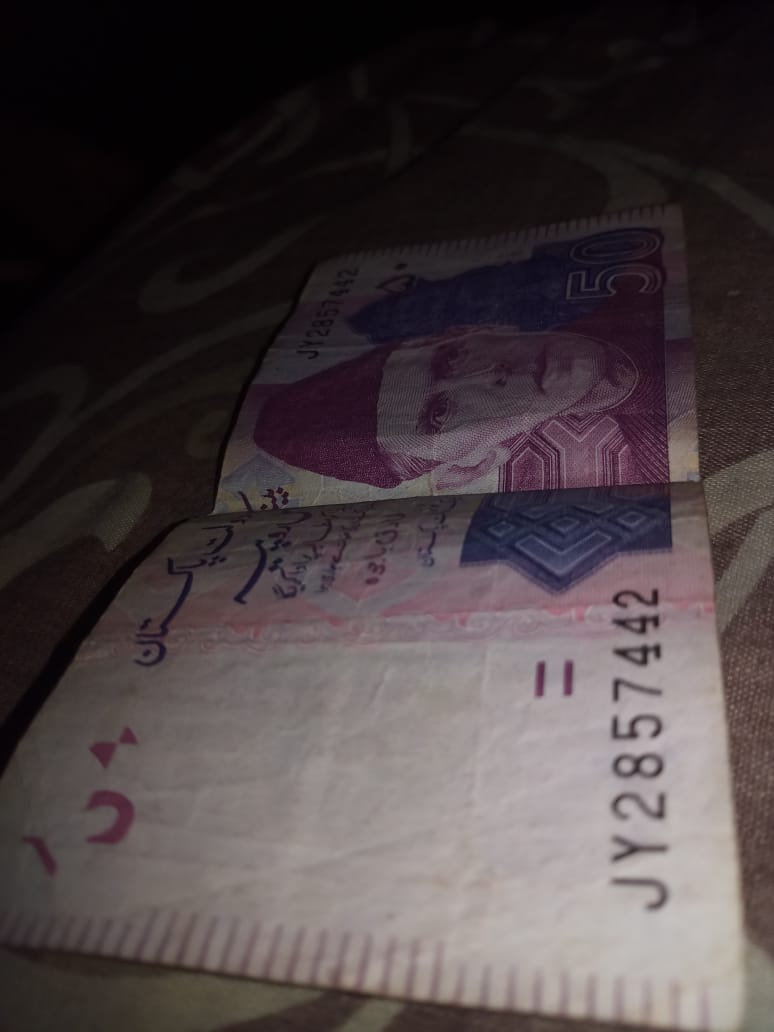50 rupee: (33, 202, 736, 1032)
